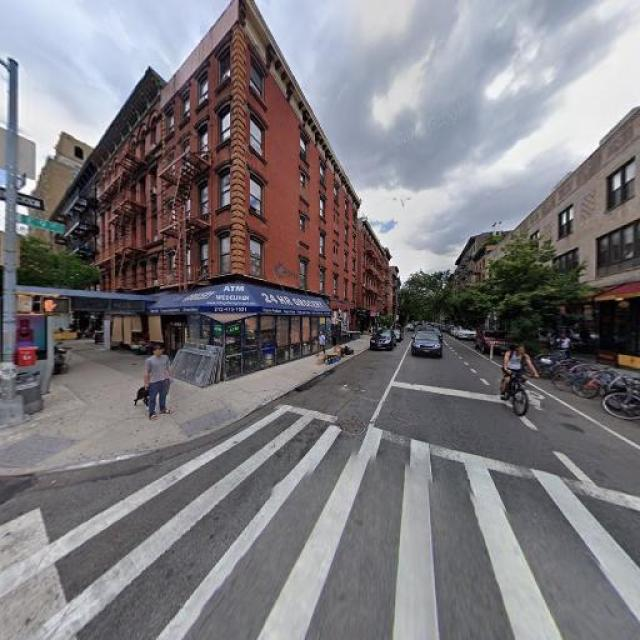Building: (52, 1, 355, 370), (489, 128, 640, 372)
